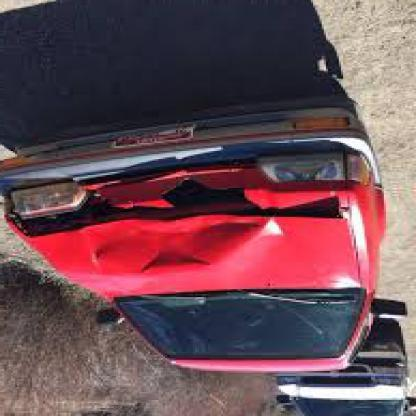dent: (233, 185, 352, 217), (126, 248, 210, 276), (194, 222, 295, 240)
